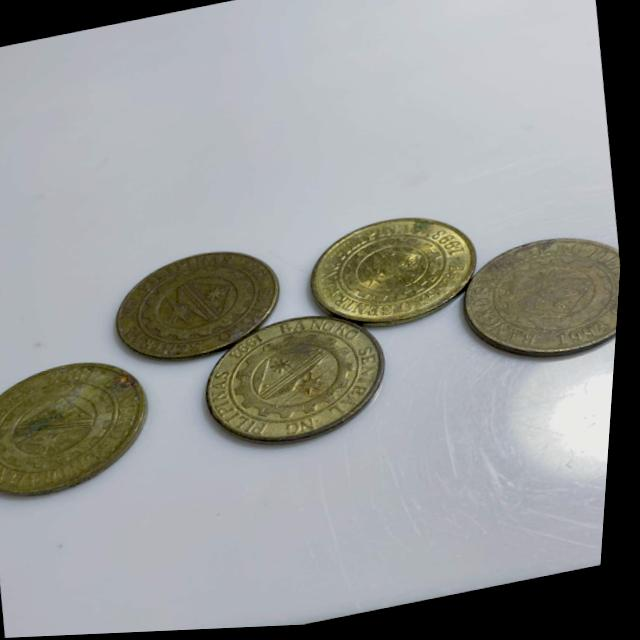25Cent_Old_Back: (198, 308, 395, 460), (457, 226, 627, 386), (0, 353, 162, 503), (304, 206, 485, 338), (109, 240, 287, 368)
